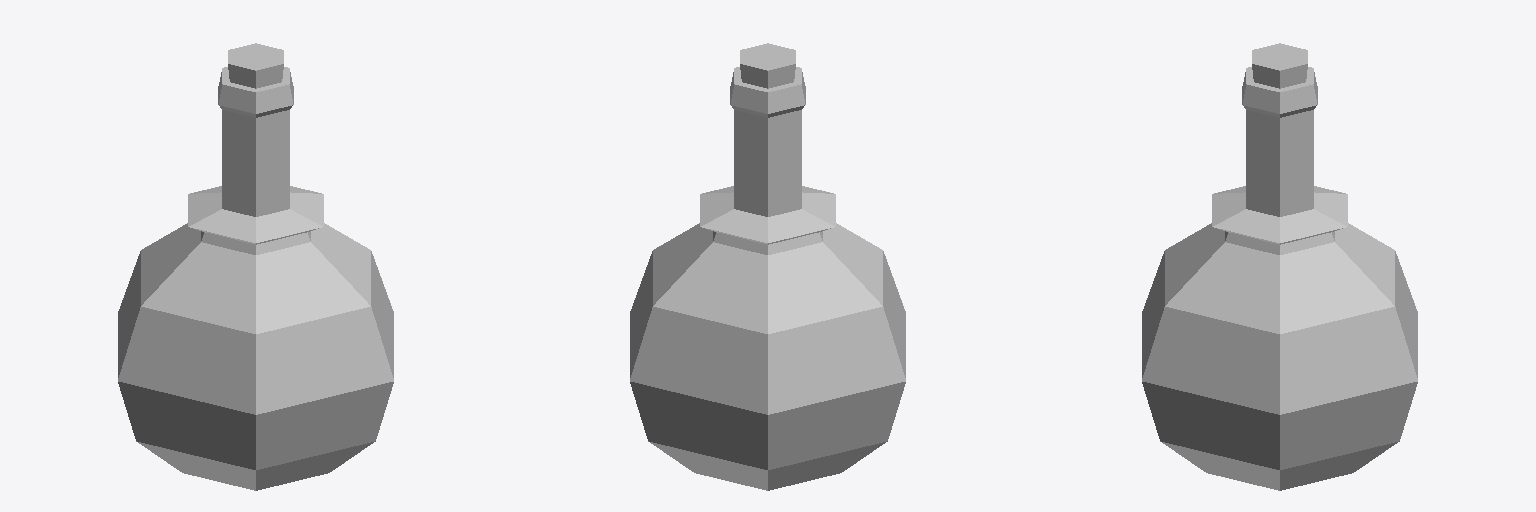
Rendered from potion_LowPoly.obj.
The picture shows the model from 3 angles: view 1: azimuth 30°, elevation 25°; view 2: azimuth 150°, elevation 25°; view 3: azimuth 270°, elevation 25°; orthographic projection.
Visible parts, largest first — view 1: polySurface2, pCylinder4; view 2: polySurface2, pCylinder4; view 3: polySurface2, pCylinder4.
Part boxes in pixels (x1,y1,x2,y2): polySurface2: (118, 67, 393, 490); pCylinder4: (228, 43, 283, 88); polySurface2: (630, 67, 905, 490); pCylinder4: (740, 43, 795, 88); polySurface2: (1142, 67, 1417, 490); pCylinder4: (1252, 43, 1307, 88).
Size of the model in its own units: 7.71 by 10.6 by 6.68.